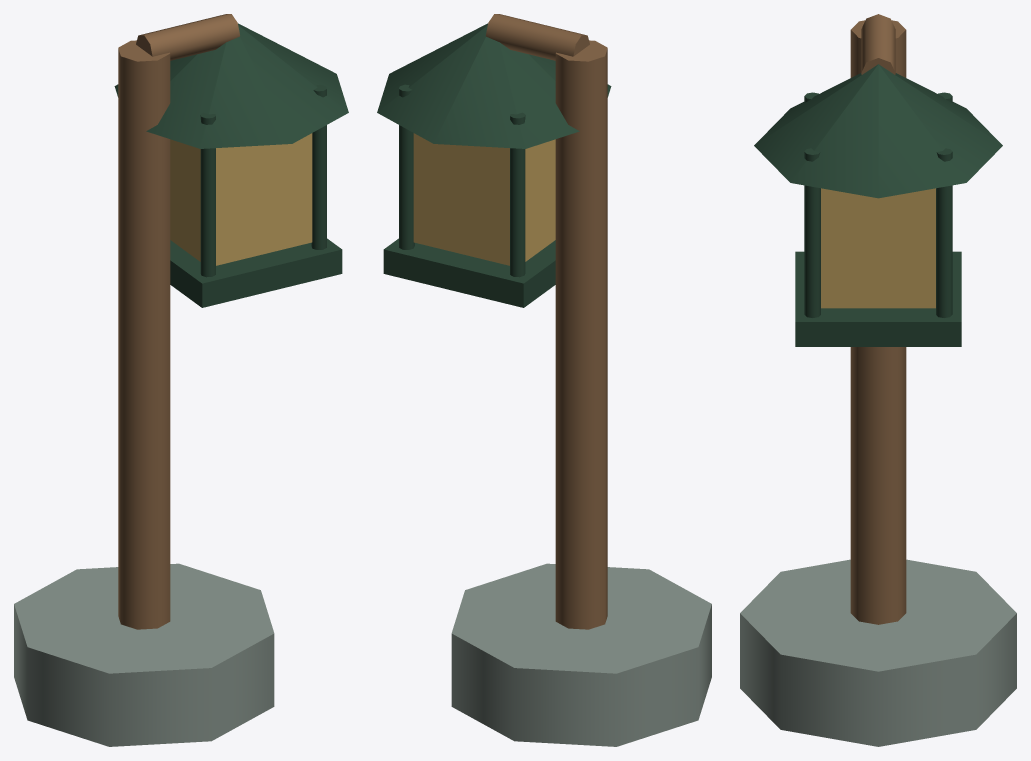
The model's file is decoration-lantern.glb.
3 views of the same model, side by side, from view 1: azimuth 30°, elevation 25°; view 2: azimuth 150°, elevation 25°; view 3: azimuth 270°, elevation 25° (orthographic). The views are drawn at different scales.
Parts seen in each view (by area): view 1: decoration-lantern-visual; view 2: decoration-lantern-visual; view 3: decoration-lantern-visual.
Part boxes in pixels (x1=…): decoration-lantern-visual: x1=14, y1=14, x2=348, y2=746; decoration-lantern-visual: x1=377, y1=14, x2=711, y2=746; decoration-lantern-visual: x1=740, y1=14, x2=1016, y2=746.
Bounding box in the file's own units: 0.53 × 1.08 × 0.4.
